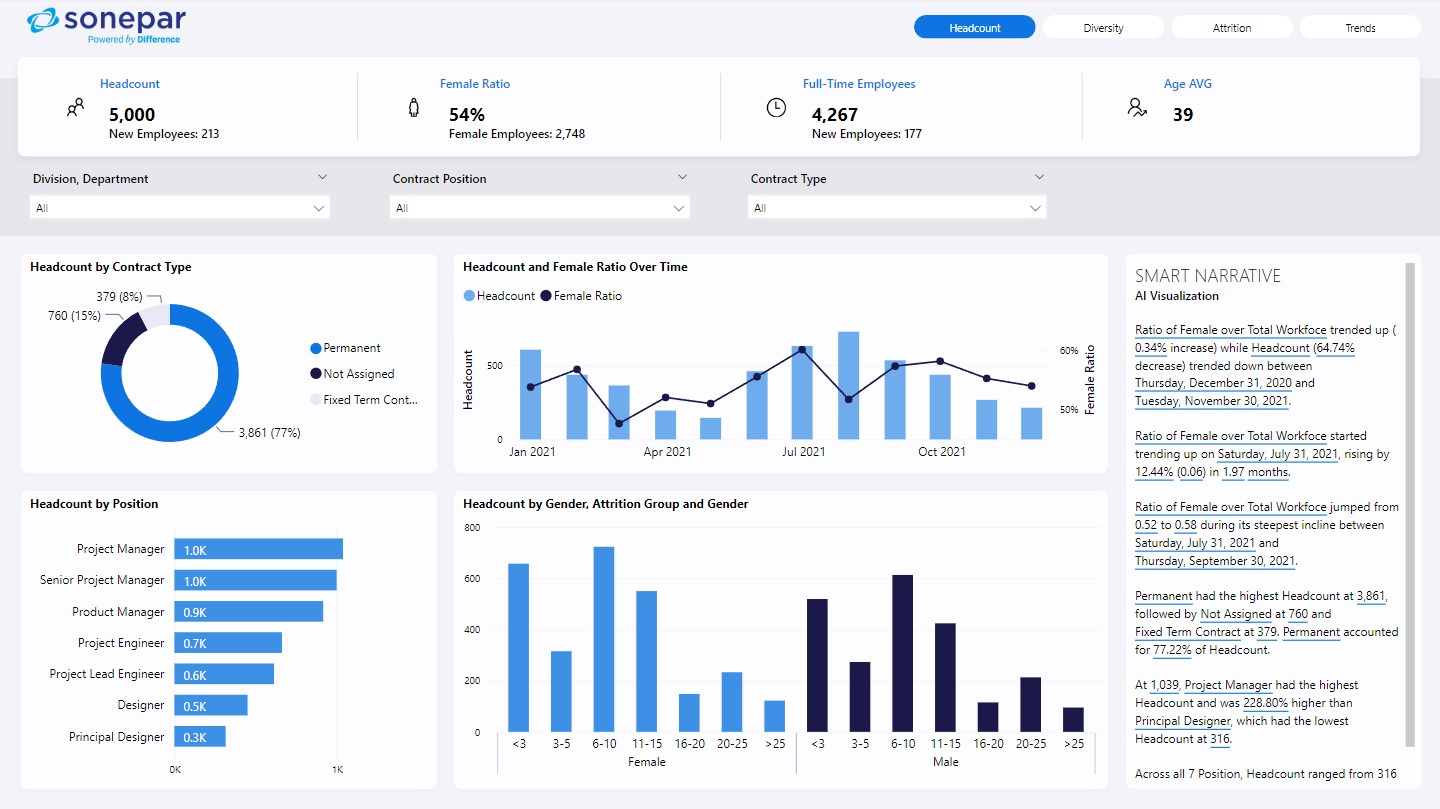

The dashboard page shown, as its layout file describes it:
{"tool":"powerbi","page":{"name":"Headcount","canvas":[1280,720],"ordinal":0},"visuals":[{"type":"actionButton","title":"KPI","box":[18,53,1243,88],"z":0,"group":"g4"},{"type":"shape","box":[933.1,67,57.1,60.2],"z":0,"group":"g1"},{"type":"actionButton","title":"Background","box":[0,71.7,1280,140.4],"z":0,"group":"g2"},{"type":"slicer","fields":{"Values":["★ Contract Type.Contract Type"]},"box":[655,148.2,286,59.7],"z":0,"group":"g3"},{"type":"group","id":"g1","title":"Lines","box":[290,67,700.2,60.2],"z":500,"group":"g4"},{"type":"shape","box":[611.6,67,57.7,60.2],"z":1000,"group":"g1"},{"type":"group","id":"g2","title":"Elements","box":[0,71.7,1280,140.4],"z":1000},{"type":"image","box":[355.5,83.7,27,26.7],"z":1000,"group":"g4"},{"type":"slicer","fields":{"Values":["★ Contract Position.Contract Position"]},"box":[337,148,287.1,59.7],"z":1000,"group":"g3"},{"type":"shape","box":[290,67,57.7,60.2],"z":2000,"group":"g1"},{"type":"image","box":[55,83.7,27,26.7],"z":2000,"group":"g4"},{"type":"slicer","fields":{"Values":["★ Position Product.Position Division/Function","★ Department.Department"]},"box":[18,148.2,287.1,59.7],"z":2000,"group":"g3"},{"type":"textbox","box":[1000.6,227.8,261.5,474.2],"z":2000},{"type":"image","box":[676.9,83.7,27,26.7],"z":3000,"group":"g4"},{"type":"columnChart","fields":{"Category":["★ Gender.Gender","Attrition.Attrition Group"],"Y":["KPI.Headcount"],"Series":["★ Gender.Gender"]},"box":[404.6,437.7,580.1,263.6],"z":3000},{"type":"image","box":[997,83.7,27,26.7],"z":4000,"group":"g4"},{"type":"barChart","fields":{"Category":["★ Position.Position","★ Employee Subgroup.Employee Subgroup","★ Position.Functional Area"],"Y":["KPI.Headcount"]},"box":[20,437.7,368.9,263.6],"z":4000},{"type":"kpi","title":"Headcount ","fields":{"Indicator":["KPI.Headcount"],"Goal":["KPI.New Employees"],"TrendLine":["Human Resources [Fac].Company"]},"box":[85,68,230,60],"z":5000,"group":"g4"},{"type":"lineStackedColumnComboChart","title":"Headcount and Female Ratio Over Time","fields":{"Category":["Dates.Date"],"Y":["KPI.Headcount"],"Y2":["KPI.Ratio of Female over Total Workfoce"]},"box":[404.6,227.8,580.1,194.1],"z":5000},{"type":"kpi","title":"Full-Time Employees","fields":{"Indicator":["KPI.Headcount"],"Goal":["KPI.New Employees"],"TrendLine":["Human Resources [Fac].Company"]},"box":[708.5,68,245,60],"z":6000,"group":"g4"},{"type":"donutChart","fields":{"Category":["★ Contract Type.Contract Type","★ Contract Position.Contract Position","★ Contract.Contract"],"Y":["KPI.Headcount"]},"box":[20,227.8,368.9,194.1],"z":6000},{"type":"kpi","title":"Female Ratio","fields":{"TrendLine":["Human Resources [Fac].Company"],"Goal":["KPI.Female %"],"Indicator":["KPI.Ratio of Female over Total Workfoce"]},"box":[387,68.2,245,60],"z":7000,"group":"g4"},{"type":"group","id":"g3","title":"Slicers","box":[18,148,923,59.8],"z":7000},{"type":"group","id":"g4","title":"KPIS","box":[18,53,1243,88],"z":8000},{"type":"kpi","title":"Age AVG","fields":{"TrendLine":["Human Resources [Fac].Company"],"Indicator":["KPI.Average age"]},"box":[1028.7,68,230,60],"z":8000,"group":"g4"},{"type":"pageNavigator","box":[812.1,16,451.2,21],"z":9000},{"type":"image","box":[17.7,4.4,156.9,43.4],"z":10000}]}

Visuals, with their boxes in screenshot pixels (x1, y1, x2, y2), scaled from the page's 1280x720 canvas onto the 1440x809 screenshot:
"KPI" actionButton: box=[20, 60, 1419, 158]
shape: box=[1050, 75, 1114, 143]
"Background" actionButton: box=[0, 81, 1439, 238]
slicer - ★ Contract Type.Contract Type: box=[737, 167, 1059, 234]
"Lines" group: box=[326, 75, 1114, 143]
shape: box=[688, 75, 753, 143]
"Elements" group: box=[0, 81, 1439, 238]
image: box=[400, 94, 430, 124]
slicer - ★ Contract Position.Contract Position: box=[379, 166, 702, 233]
shape: box=[326, 75, 391, 143]
image: box=[62, 94, 92, 124]
slicer - ★ Position Product.Position Division/Function x ★ Department.Department: box=[20, 167, 343, 234]
textbox: box=[1126, 256, 1420, 789]
image: box=[762, 94, 792, 124]
columnChart - ★ Gender.Gender x Attrition.Attrition Group: box=[455, 492, 1108, 788]
image: box=[1122, 94, 1152, 124]
barChart - ★ Position.Position x ★ Employee Subgroup.Employee Subgroup: box=[22, 492, 438, 788]
"Headcount " kpi: box=[96, 76, 354, 144]
"Headcount and Female Ratio Over Time" lineStackedColumnComboChart: box=[455, 256, 1108, 474]
"Full-Time Employees" kpi: box=[797, 76, 1073, 144]
donutChart - ★ Contract Type.Contract Type x ★ Contract Position.Contract Position: box=[22, 256, 438, 474]
"Female Ratio" kpi: box=[435, 77, 711, 144]
"Slicers" group: box=[20, 166, 1059, 233]
"KPIS" group: box=[20, 60, 1419, 158]
"Age AVG" kpi: box=[1157, 76, 1416, 144]
pageNavigator: box=[914, 18, 1421, 42]
image: box=[20, 5, 196, 54]
